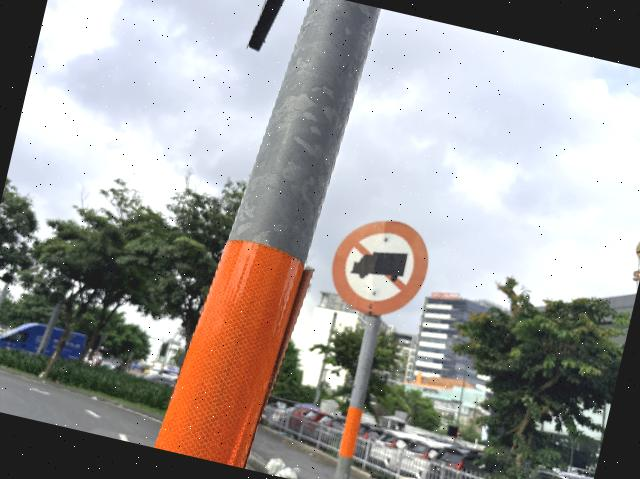cam-xe-tai: (324, 209, 435, 323)
